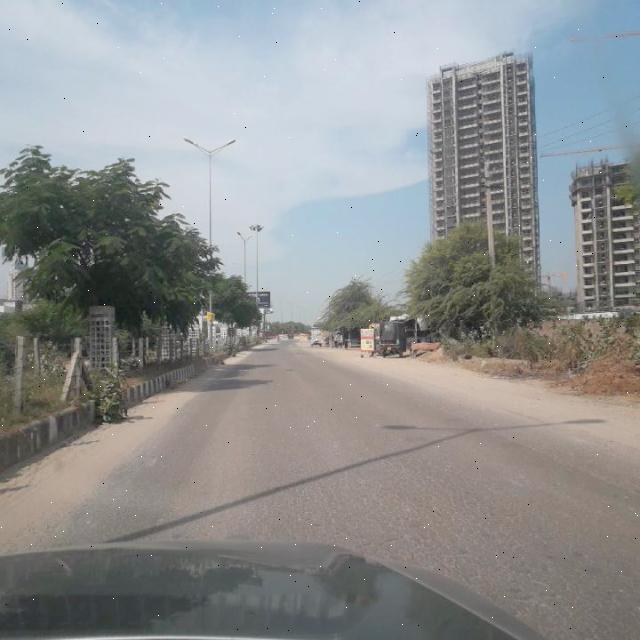D20: (221, 408, 624, 609)
